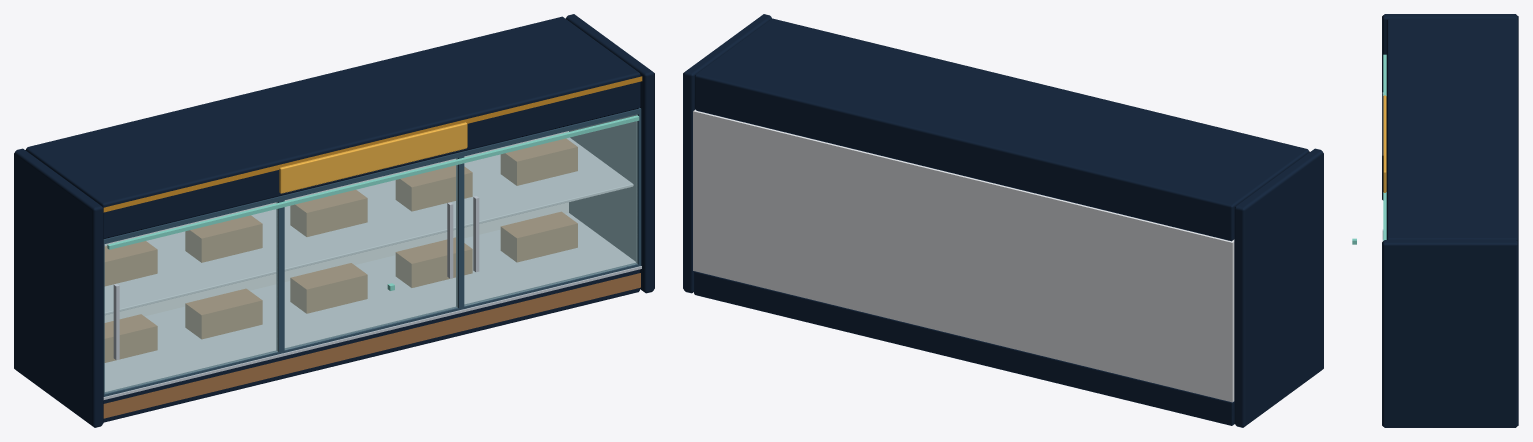
The model's file is CM_Fixture_ProduceFridge_Far.fbx.
3 renders of one model, left to right at view 1: azimuth 30°, elevation 25°; view 2: azimuth 150°, elevation 25°; view 3: azimuth 270°, elevation 25°, orthographic. The views are drawn at different scales.
Parts seen in each view (by area): view 1: Body, Glass; view 2: Body; view 3: Body.
Part boxes in pixels (<box>): Body: <box>14,14,654,427</box>; Glass: <box>104,114,637,393</box>; Body: <box>683,14,1323,427</box>; Body: <box>1382,14,1518,427</box>.
Size of the model in its own units: 24 by 7.3 by 9.
2 materials, 2 textured.
